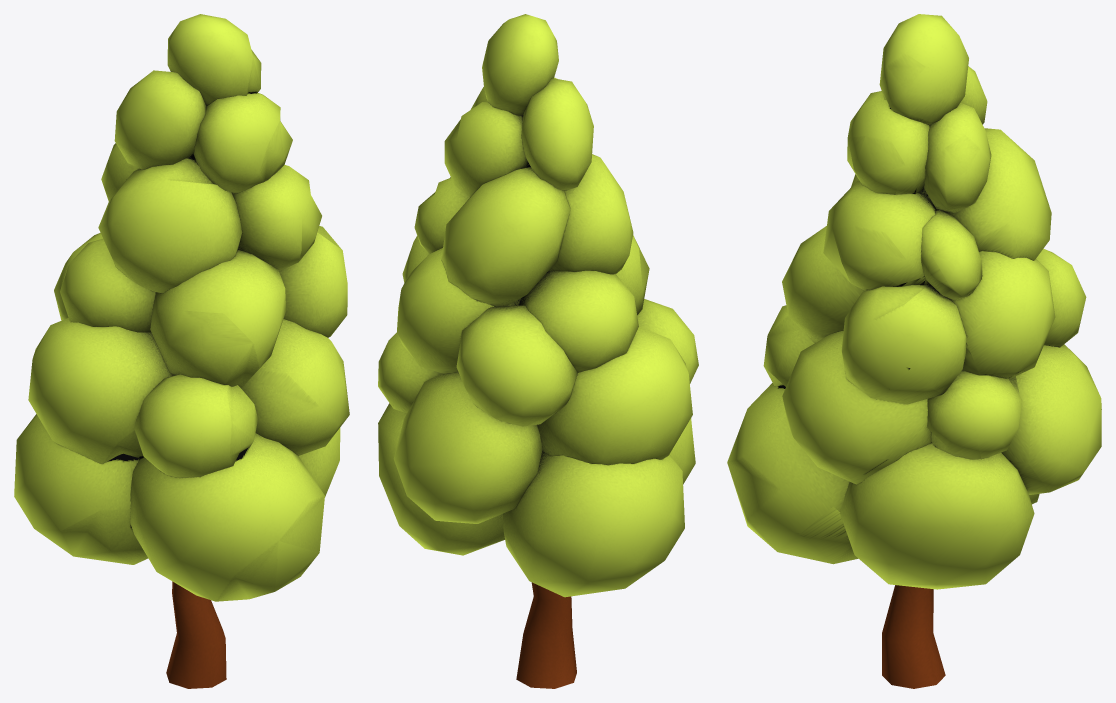
The model's file is Poplar_Tree.fbx.
3 views of the same model, side by side, from view 1: azimuth 30°, elevation 25°; view 2: azimuth 150°, elevation 25°; view 3: azimuth 270°, elevation 25° (orthographic). The views are drawn at different scales.
Visible parts, largest first — view 1: Poplar; view 2: Poplar; view 3: Poplar.
Boxes of the visible parts, box(x1,y1,x2,y2) form: Poplar: box(14, 14, 349, 688); Poplar: box(378, 14, 698, 688); Poplar: box(727, 14, 1101, 688).
Size of the model in its own units: 269 by 582 by 296.
